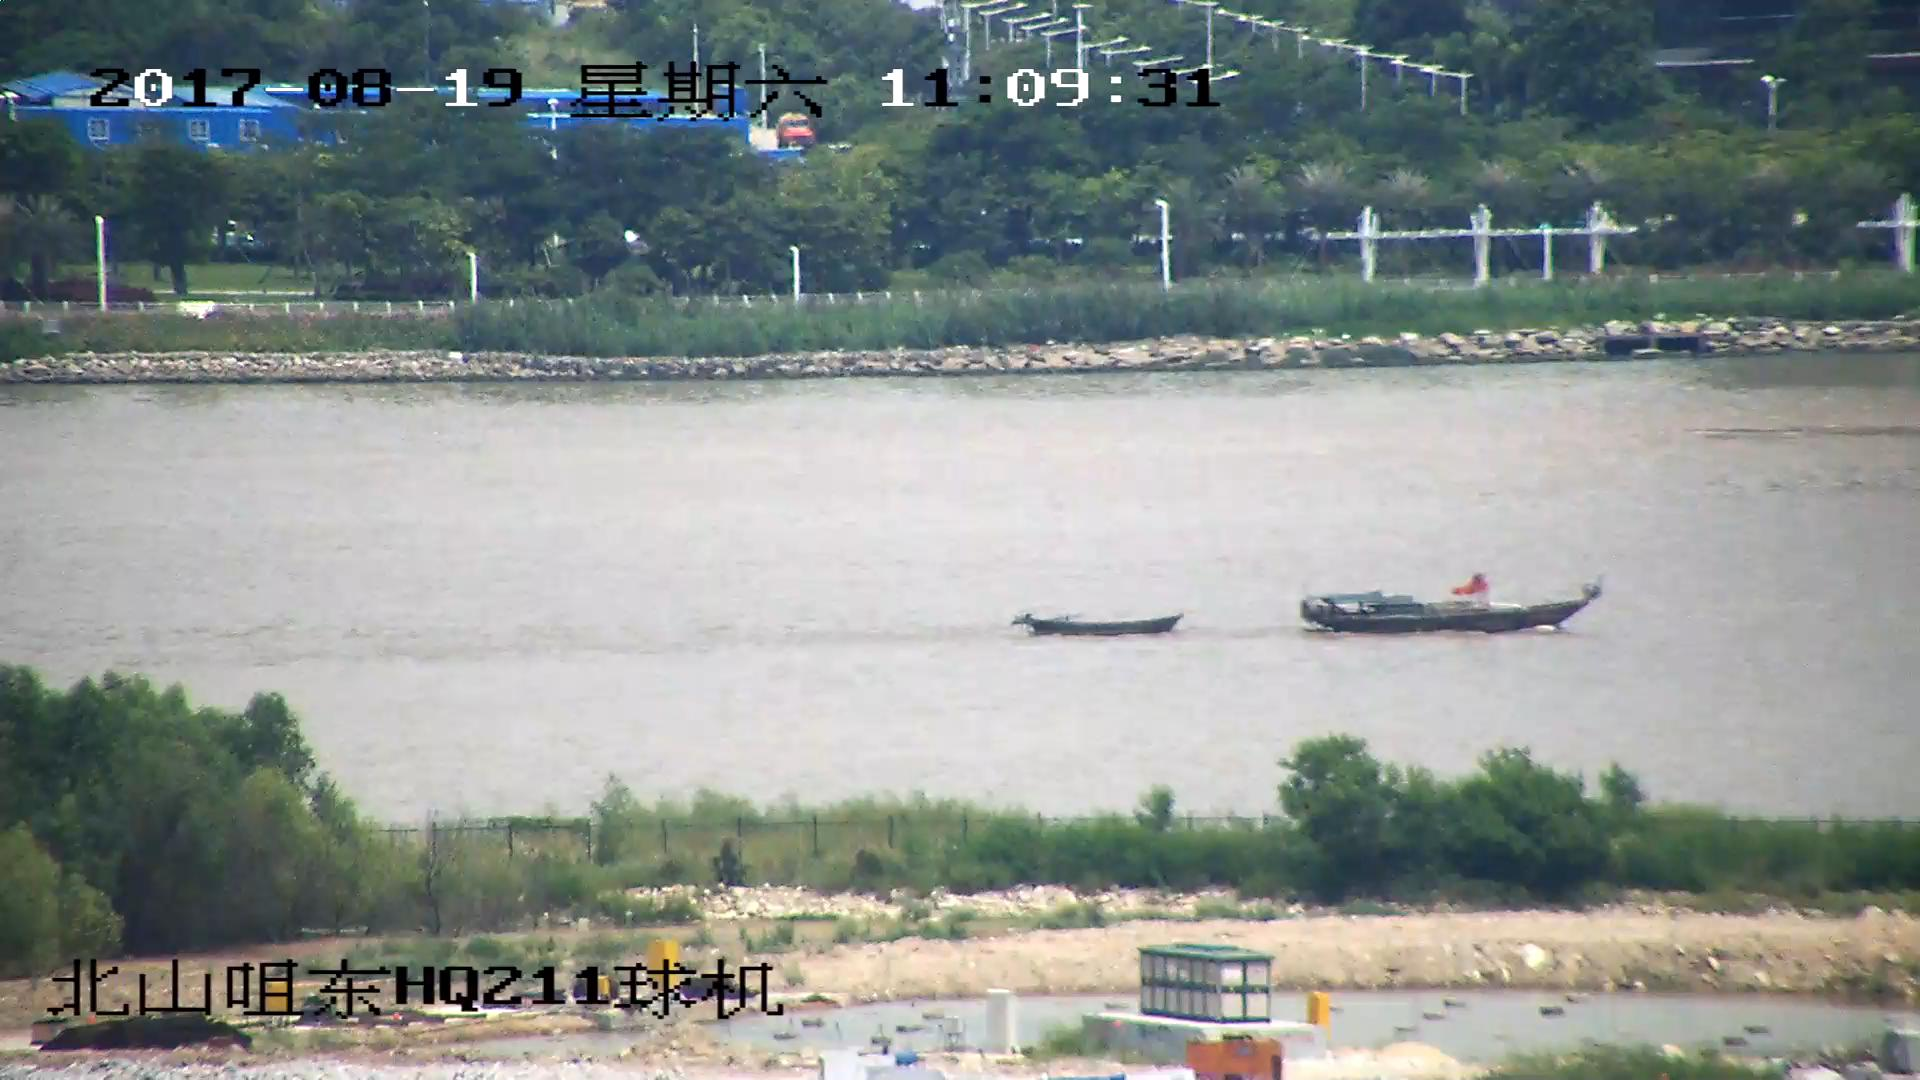fishing boat: (1304, 579, 1610, 635), (1014, 611, 1185, 639)
